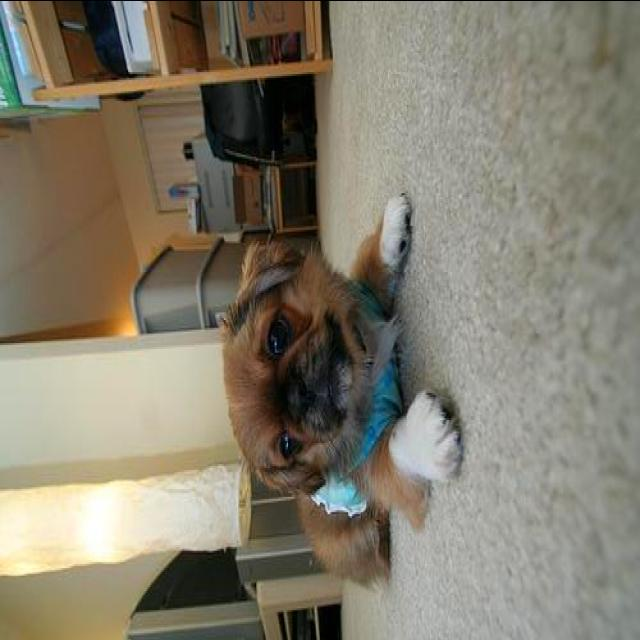pekinese: (222, 188, 462, 588)
